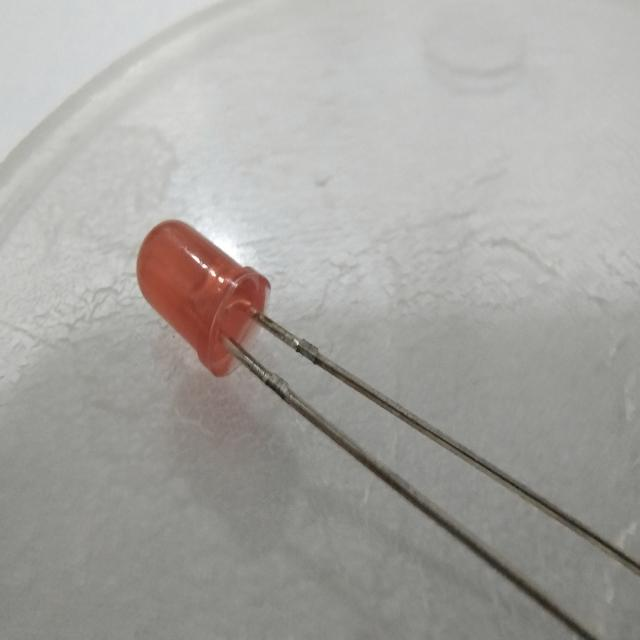red_led: (124, 208, 282, 388)
